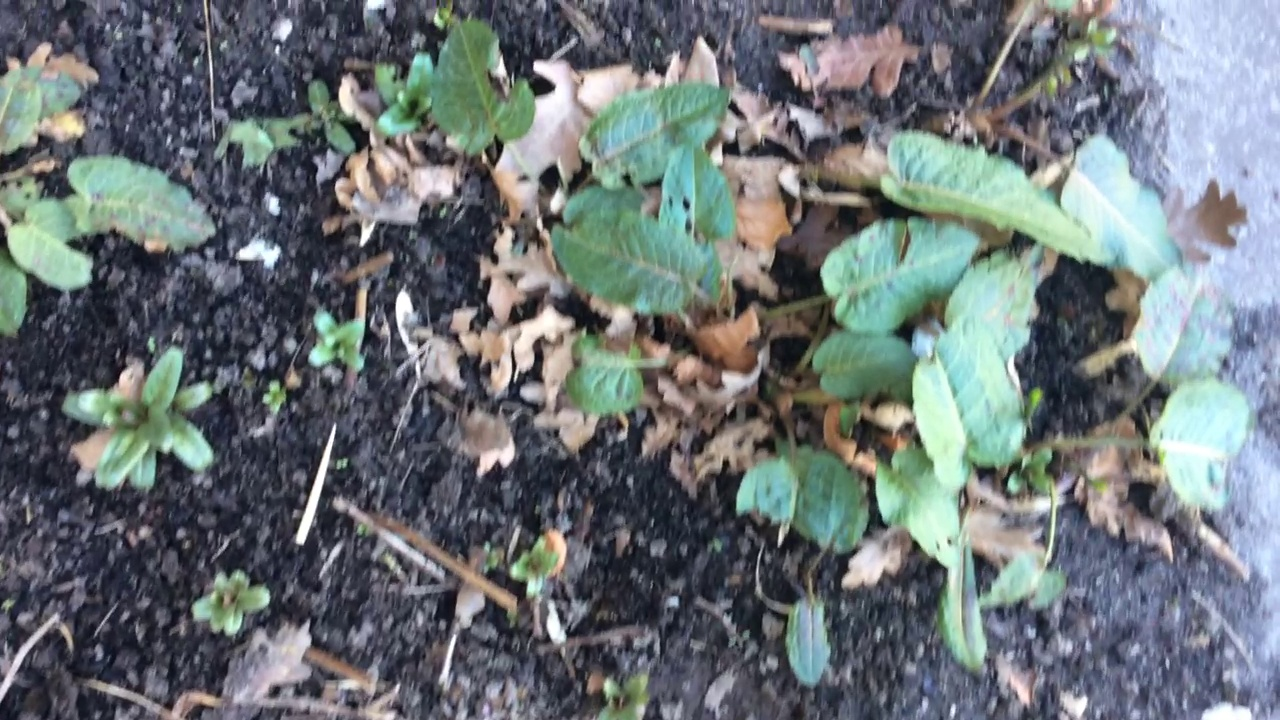rumex: (398, 22, 1252, 653), (1, 57, 225, 346)
